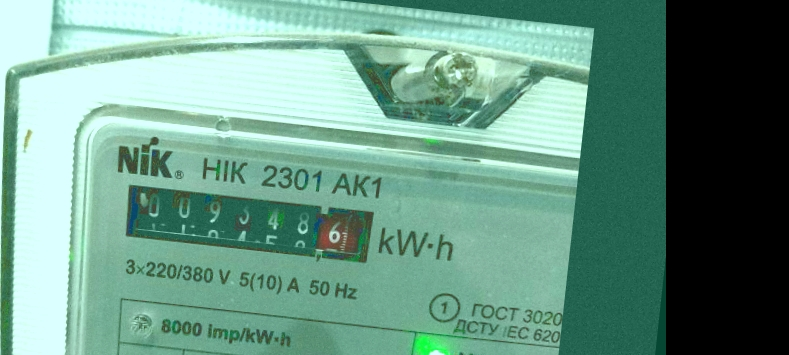0: (144, 191, 162, 219), (175, 192, 191, 219)
3: (235, 199, 252, 226)
4: (262, 200, 283, 232)
6: (324, 215, 344, 246)
8: (294, 207, 312, 236)
9: (205, 198, 222, 227)
screen: (103, 168, 388, 275)
